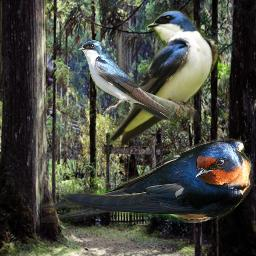Swallow: (41, 138, 253, 223), (106, 9, 219, 148), (77, 40, 175, 121)
